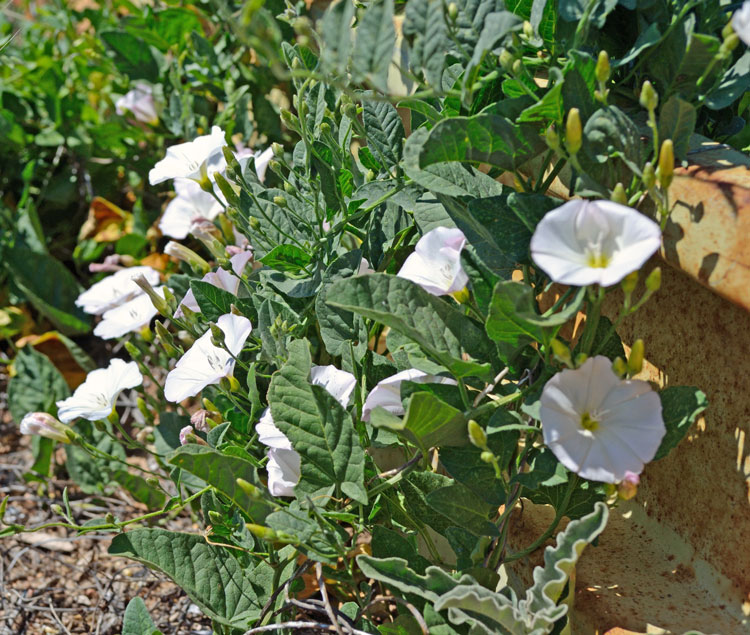bindweed: (537, 353, 666, 484), (523, 196, 662, 292), (163, 314, 251, 404), (385, 223, 473, 307), (54, 355, 147, 429), (140, 124, 229, 196), (82, 283, 168, 341), (74, 260, 160, 318)
